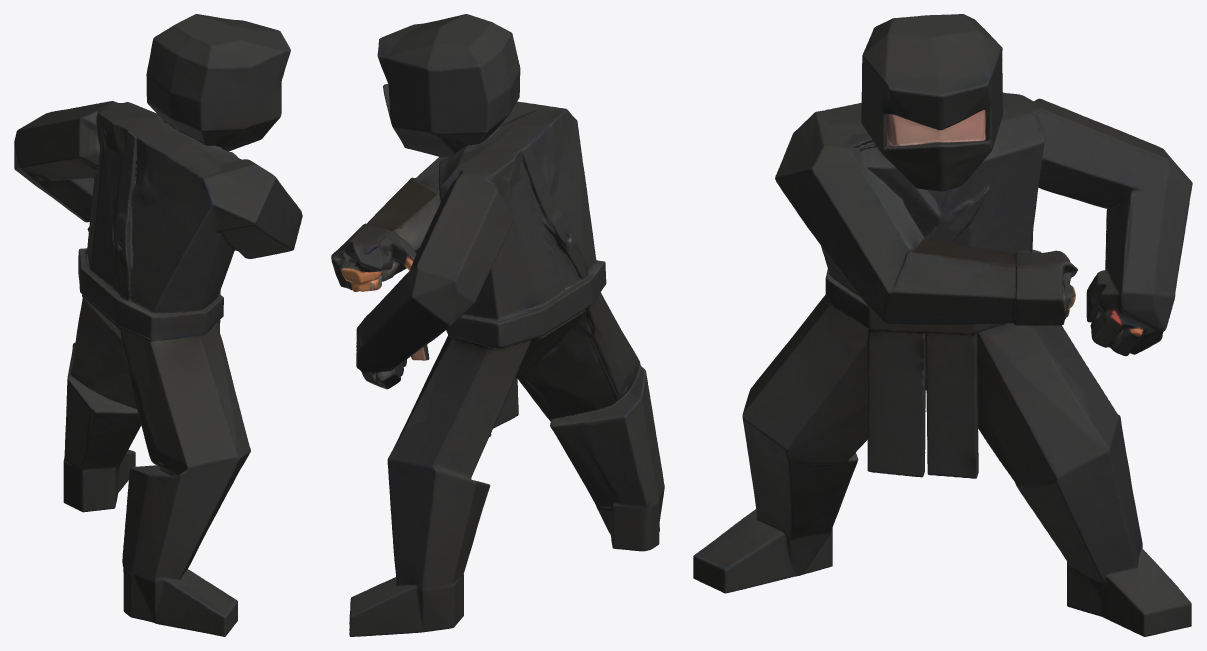
The model's file is ninja.glb.
3 renders of one model, left to right at view 1: azimuth 30°, elevation 25°; view 2: azimuth 150°, elevation 25°; view 3: azimuth 270°, elevation 25°, orthographic. The views are drawn at different scales.
Visible parts, largest first — view 1: tripo_node_e1929716-1a25-412a-ba58-6011ab6e7813; view 2: tripo_node_e1929716-1a25-412a-ba58-6011ab6e7813; view 3: tripo_node_e1929716-1a25-412a-ba58-6011ab6e7813.
Boxes of the visible parts, x1,y1,x2,y2 form: tripo_node_e1929716-1a25-412a-ba58-6011ab6e7813: [14, 14, 302, 636]; tripo_node_e1929716-1a25-412a-ba58-6011ab6e7813: [331, 14, 664, 636]; tripo_node_e1929716-1a25-412a-ba58-6011ab6e7813: [693, 14, 1192, 636].
Bounding box in the file's own units: 0.4334 × 1 × 0.7524.
Materials: 1 (1 with a texture image).
